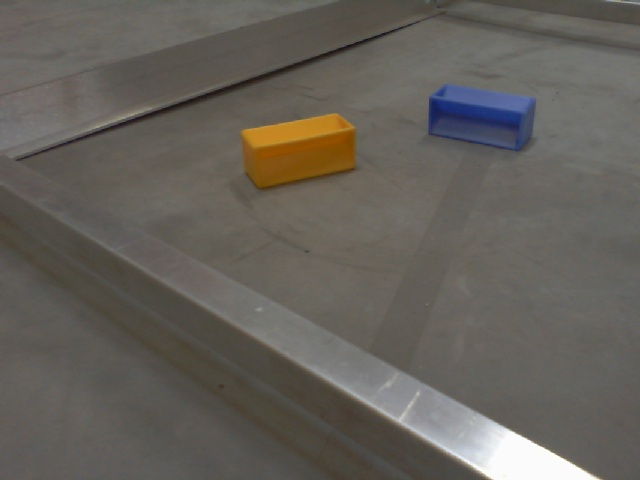BlueSample: (425, 81, 538, 155)
YellowSample: (238, 110, 358, 193)
